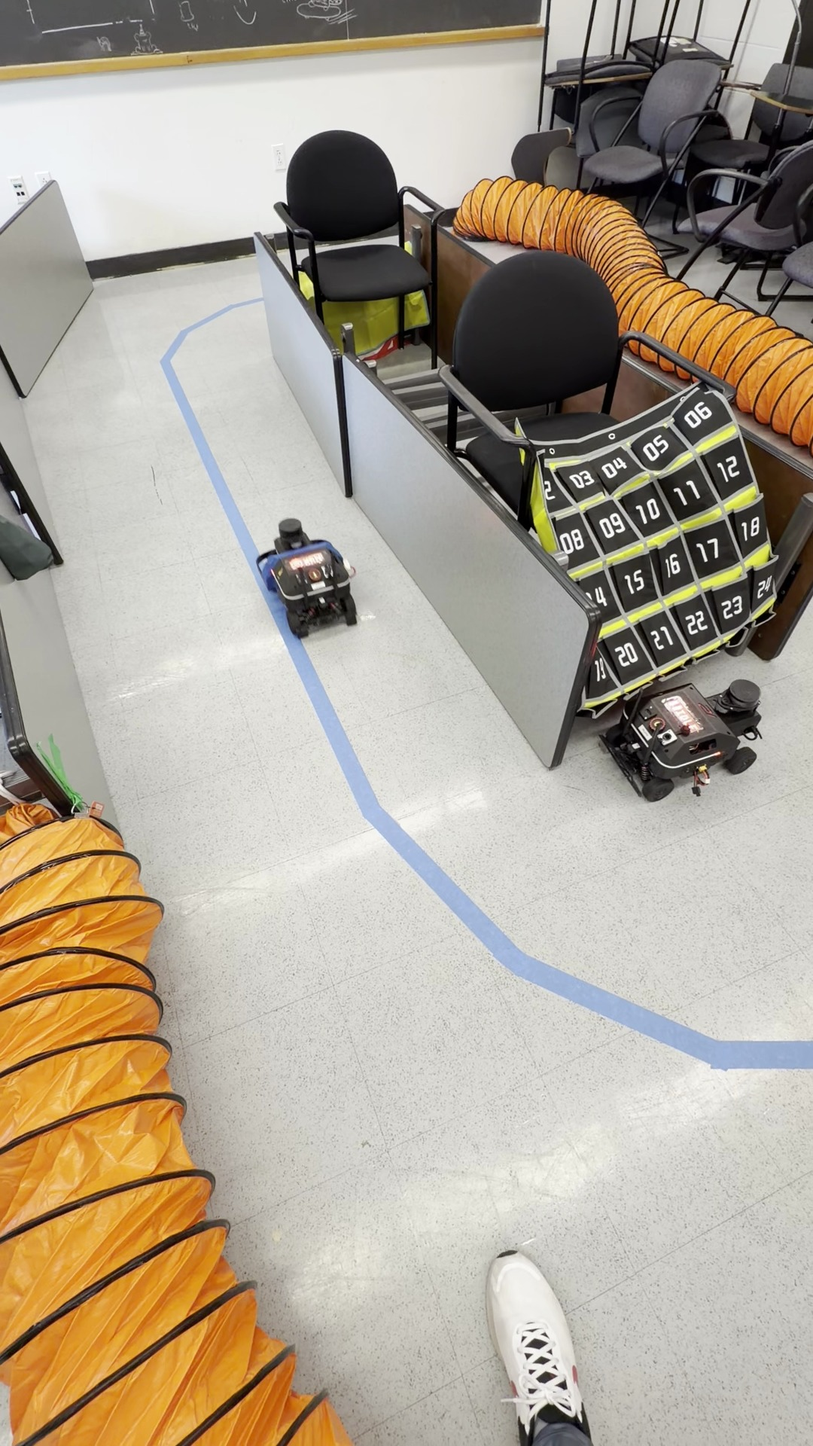racecar: (601, 675, 761, 803), (255, 518, 361, 636)
